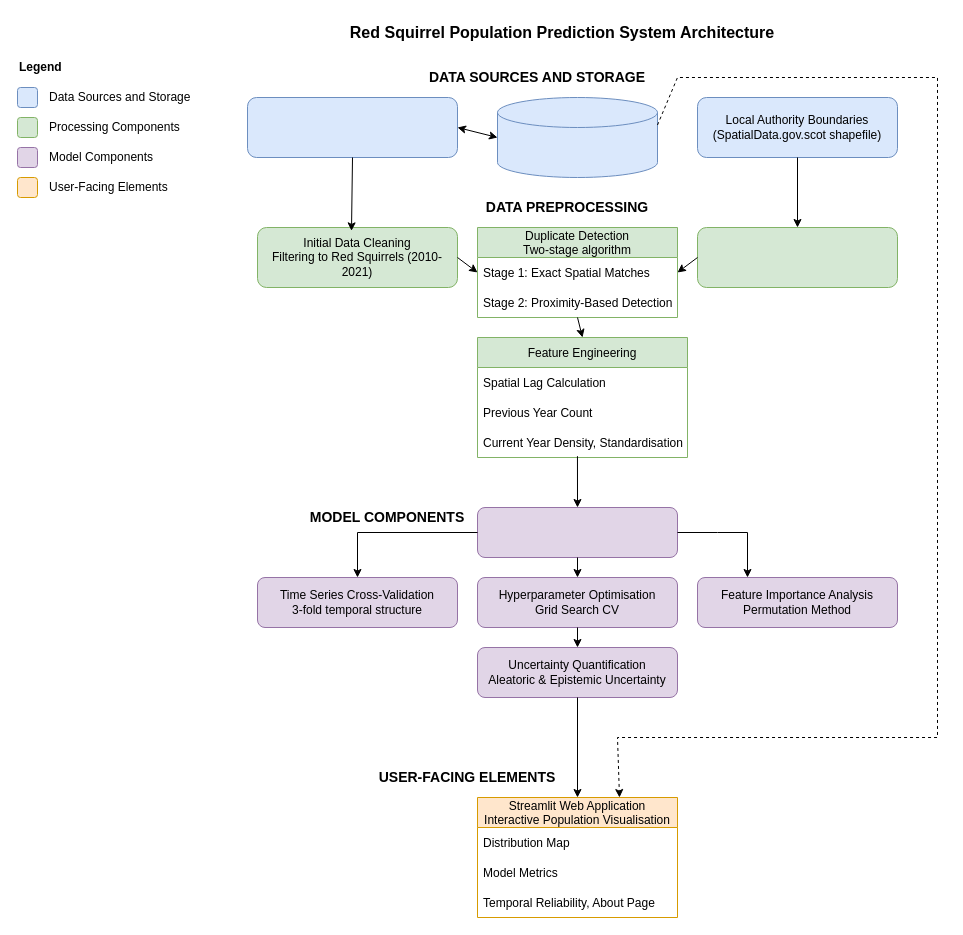
This 963x935 diagram has some shape labels left out. Here are the shapes that lost their labels. From the top down, the centre of each, then its label:
At point 352,127: "Scottish Squirrel Database (NBN Atlas) 93,119 squirrel sightings (1905-2021)".
At point 577,137: "MongoDB Database Cleaned dataset storage and retrieval".
At point 797,257: "Spatial Processing GeoDataFrame conversion (EPSG:4326)".
At point 577,532: "Model Selection Random Forest Regressor".
